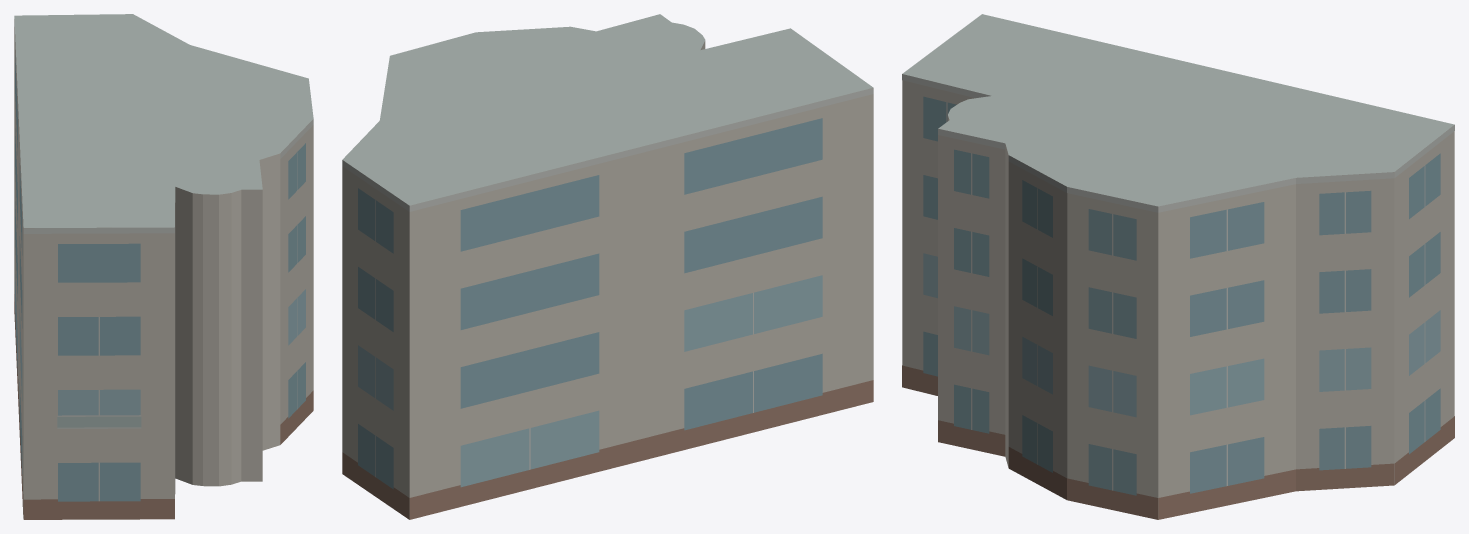
Rendered from survey-upis-32730434.glb.
3 renders of one model, left to right at view 1: azimuth 30°, elevation 25°; view 2: azimuth 150°, elevation 25°; view 3: azimuth 270°, elevation 25°, orthographic. The views are drawn at different scales.
Parts seen in each view (by area): view 1: survey-upis-32730434.tmp; view 2: survey-upis-32730434.tmp; view 3: survey-upis-32730434.tmp.
Part boxes in pixels (bbox=[...]): survey-upis-32730434.tmp: bbox=[14, 14, 313, 519]; survey-upis-32730434.tmp: bbox=[342, 14, 873, 519]; survey-upis-32730434.tmp: bbox=[902, 14, 1454, 519].
Bounding box in the file's own units: 16.08 × 12.2 × 19.51.
